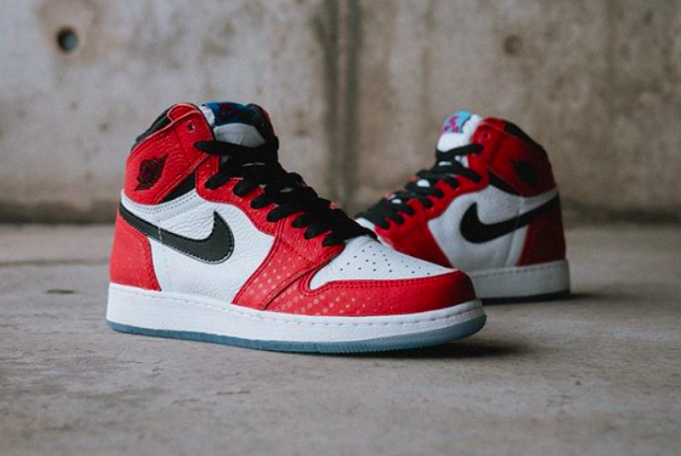Air Jordan 1 Spiderman: (88, 88, 490, 361), (335, 81, 577, 310)
